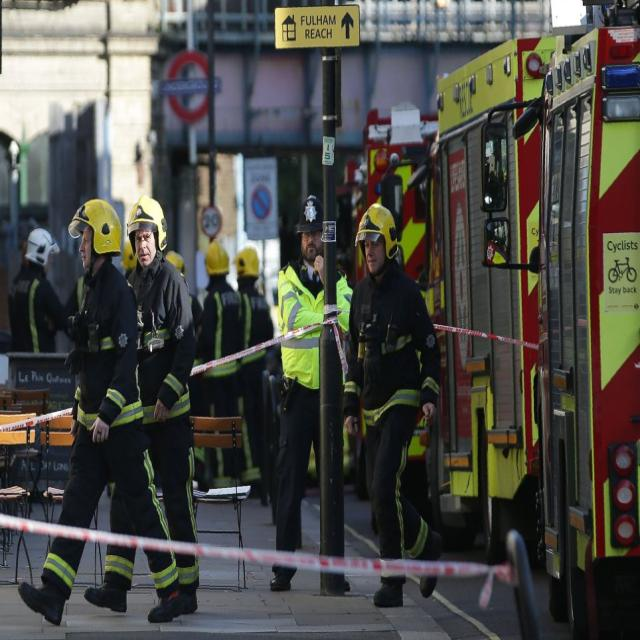body: (14, 195, 188, 627), (80, 190, 203, 619), (340, 200, 444, 612), (268, 193, 353, 594), (223, 243, 276, 503), (194, 241, 243, 479), (6, 224, 67, 354), (120, 238, 190, 290), (484, 165, 511, 264), (65, 268, 90, 344), (338, 159, 374, 210)
